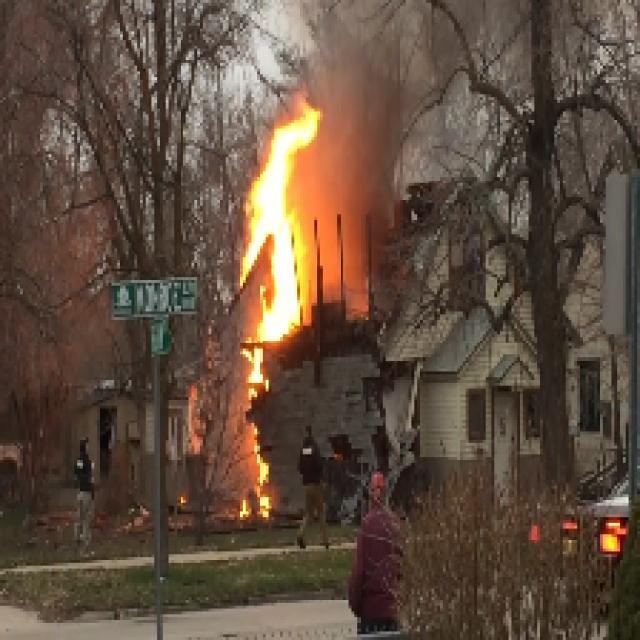fire: (248, 94, 316, 332)
smoke: (320, 28, 401, 264)
